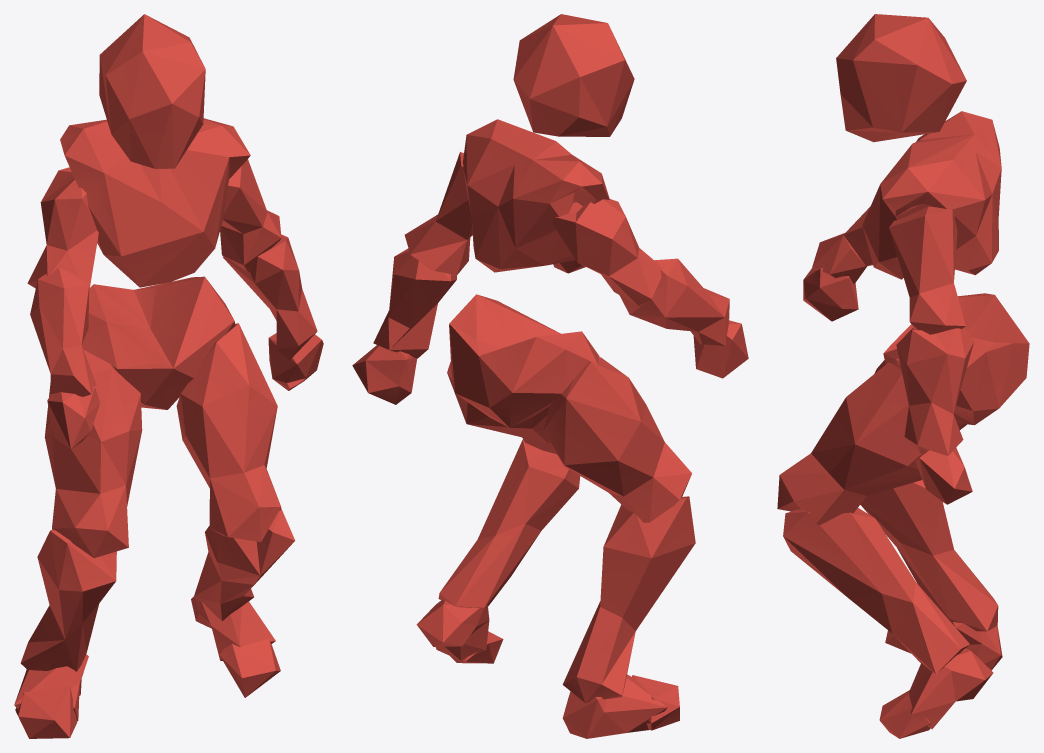
Rendered from 2dancer0179.obj.
3 renders of one model, left to right at view 1: azimuth 30°, elevation 25°; view 2: azimuth 150°, elevation 25°; view 3: azimuth 270°, elevation 25°, orthographic. The views are drawn at different scales.
Parts seen in each view (by area): view 1: Beta_Surface; view 2: Beta_Surface; view 3: Beta_Surface.
Boxes of the visible parts, x1,y1,x2,y2 form: Beta_Surface: (14,14,323,738); Beta_Surface: (352,14,748,738); Beta_Surface: (777,14,1029,738).
Size of the model in its own units: 0.8539 by 1.7 by 0.5704.
